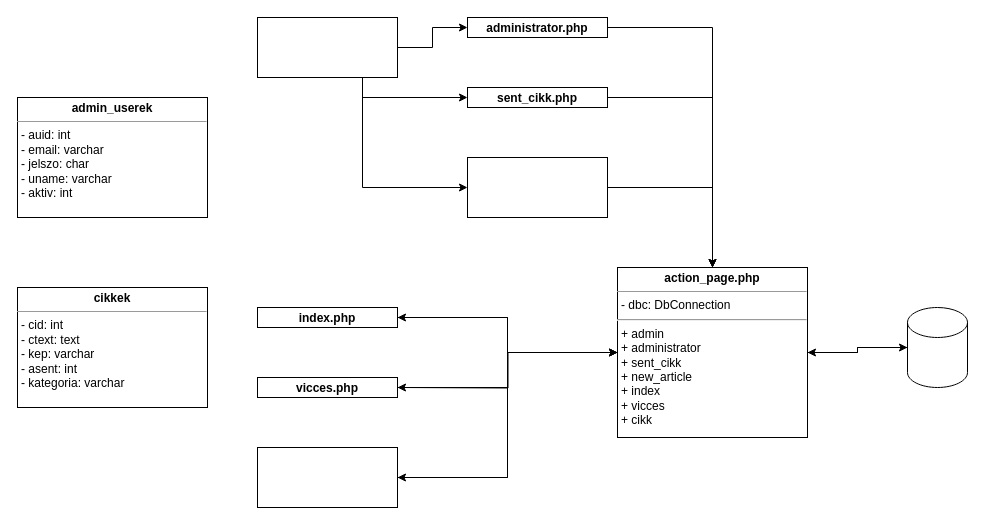
Some shapes in this 985 by 525 pixel diagram are drawn without their labels. Each missing label, with the centre of its shape:
admin.php - bejelentkezés: post: the point at 327,47
cikk.php - cikkFelU: post: the point at 327,477
MySQL: the point at 937,347
new_article.php - cikkFel: post: the point at 537,187
